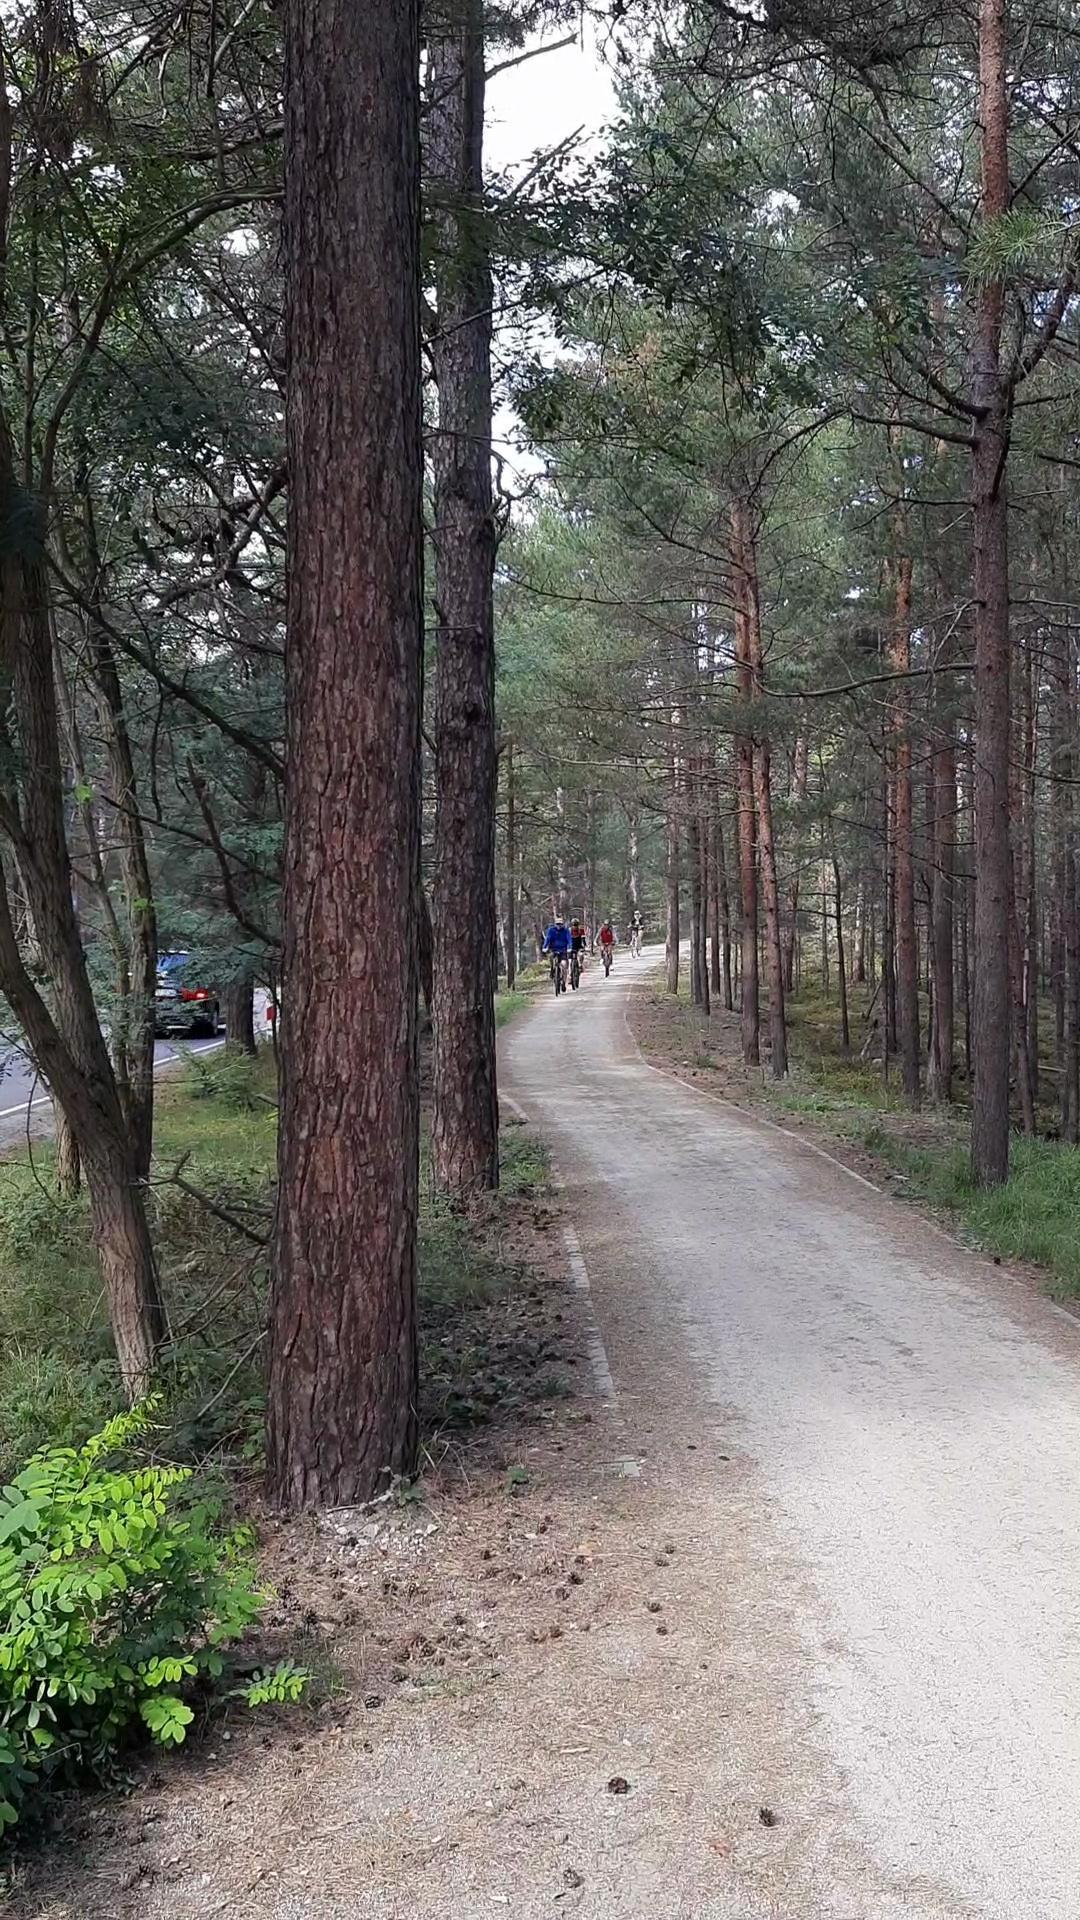cyclist: (541, 909, 574, 998), (591, 914, 621, 984)
